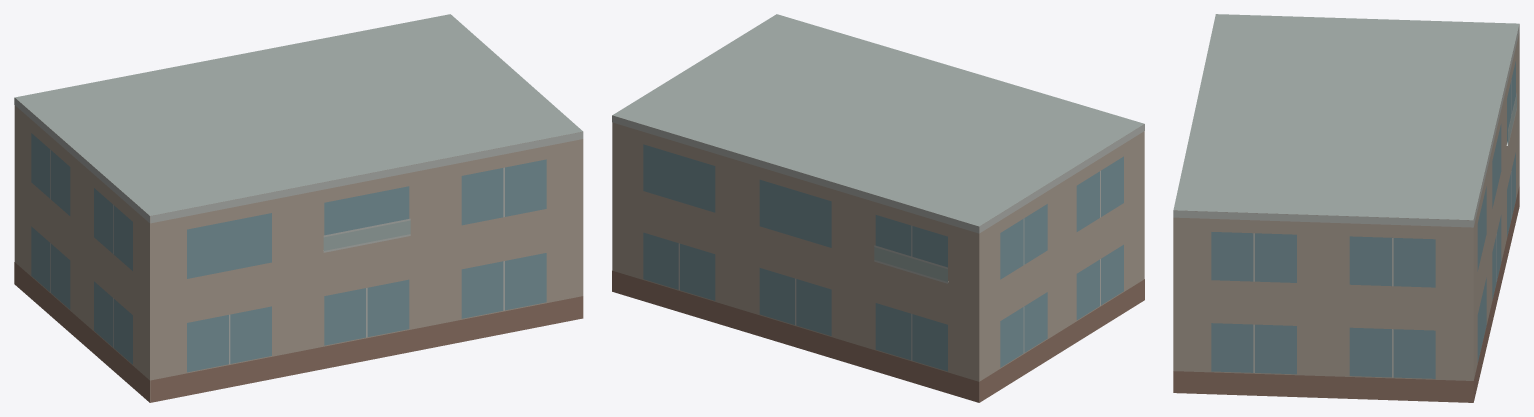
File: survey-upis-32968268.glb
The picture shows the model from 3 angles, left to right: view 1: azimuth 30°, elevation 25°; view 2: azimuth 150°, elevation 25°; view 3: azimuth 270°, elevation 25°; orthographic projection. The views are drawn at different scales.
Visible parts, largest first — view 1: survey-upis-32968268.tmp; view 2: survey-upis-32968268.tmp; view 3: survey-upis-32968268.tmp.
Boxes of the visible parts, box(x1,y1,x2,y2) form: survey-upis-32968268.tmp: box(14, 14, 583, 402); survey-upis-32968268.tmp: box(612, 14, 1144, 402); survey-upis-32968268.tmp: box(1173, 14, 1519, 402).
Bounding box in the file's own units: 14.78 × 6.1 × 10.49.
